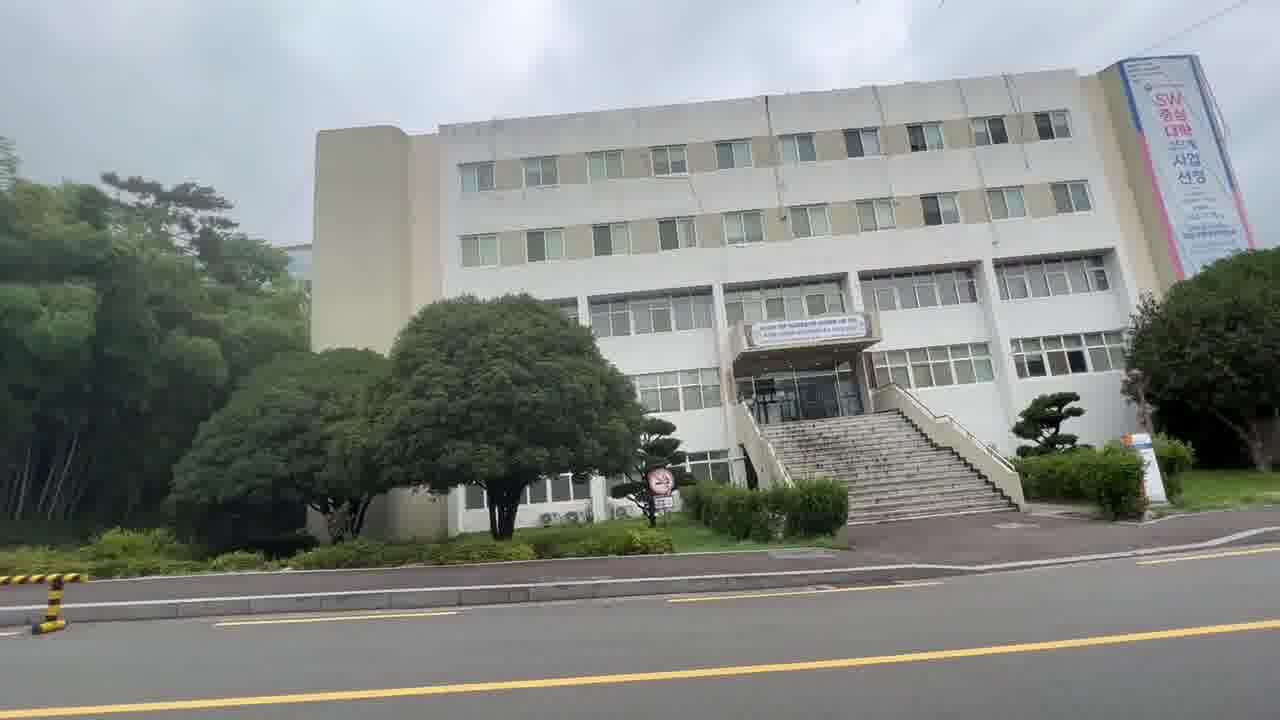building: (674, 84, 1017, 477)
